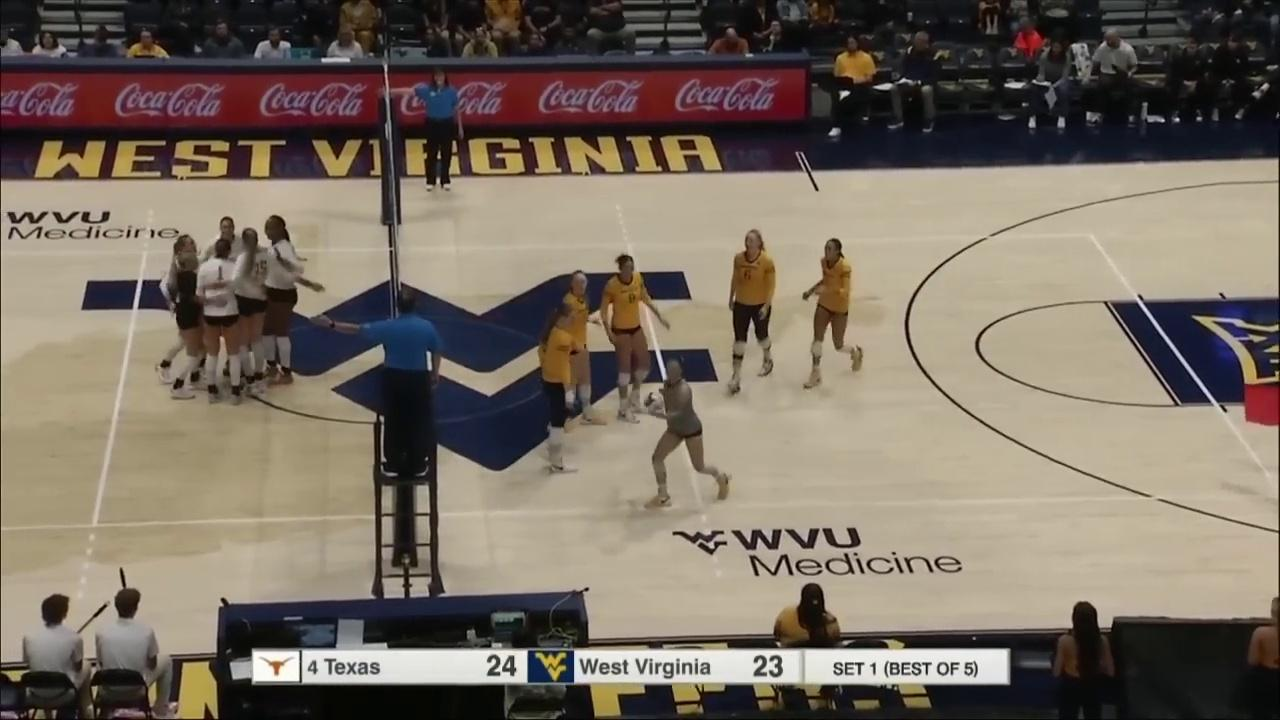player: (645, 357, 733, 509), (602, 253, 671, 421), (801, 239, 865, 393), (723, 228, 777, 393), (197, 216, 262, 343), (557, 271, 606, 427), (538, 304, 583, 473), (230, 226, 273, 398), (170, 255, 221, 395), (260, 215, 302, 383), (199, 240, 241, 401), (156, 235, 197, 387)
refree: (334, 292, 445, 473), (396, 68, 465, 190)
